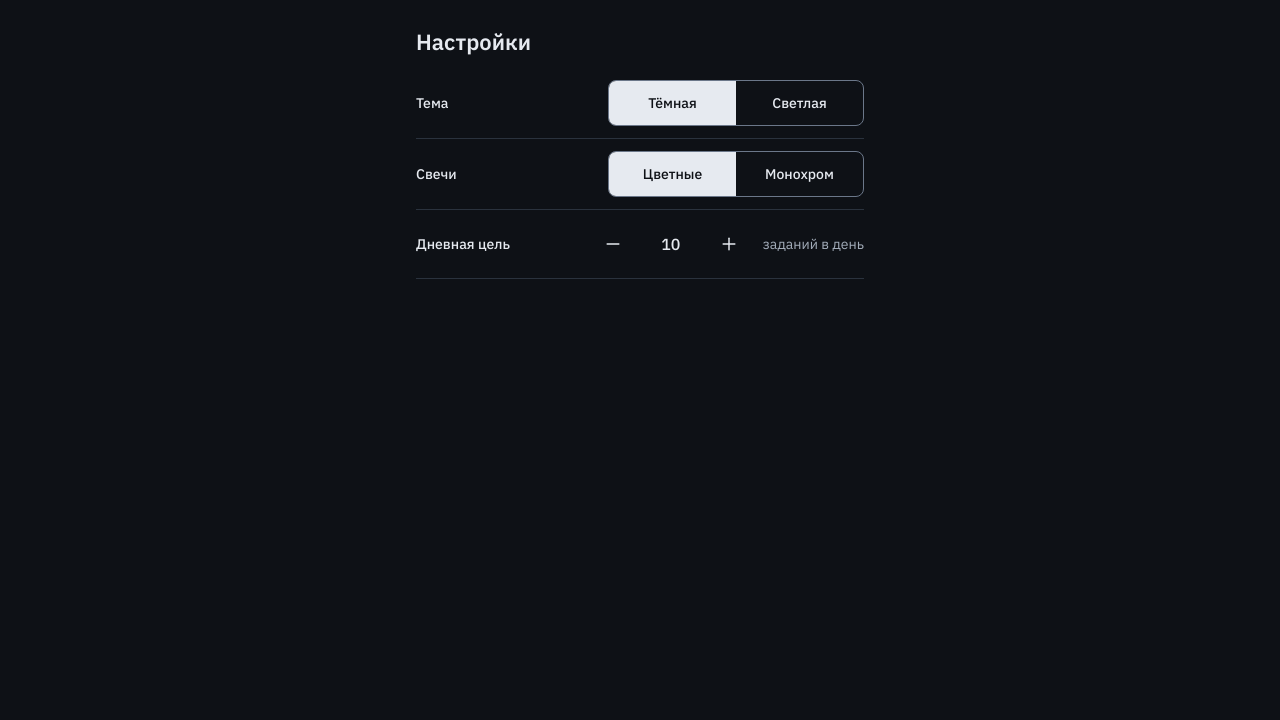
Scenario: Настройки › тема, свечи и цель сохраняются в репозитории
Click the radio button labelled "Светлая".
click(800, 103)  # box [736,81,863,125]
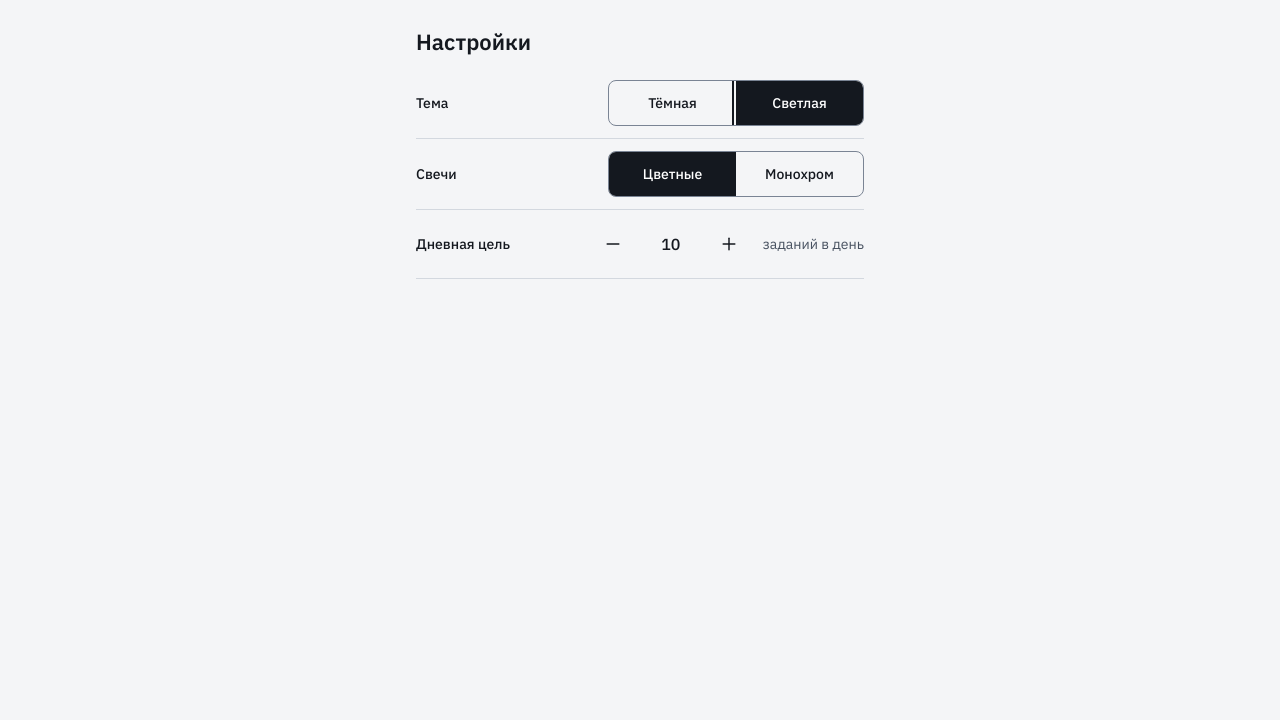
Click the radio button labelled "Монохром".
click(800, 174)  # box [736,152,863,196]
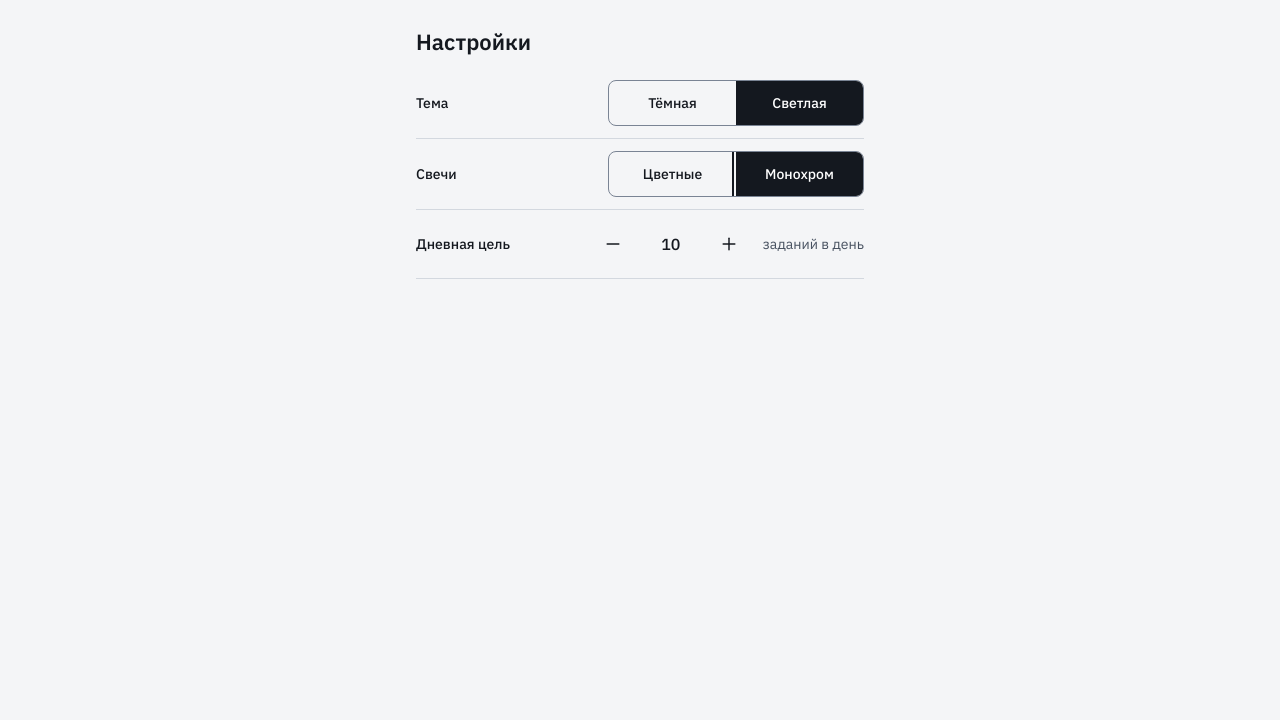
Click the button named "Увеличить".
click(729, 244)  # box [707,222,751,266]
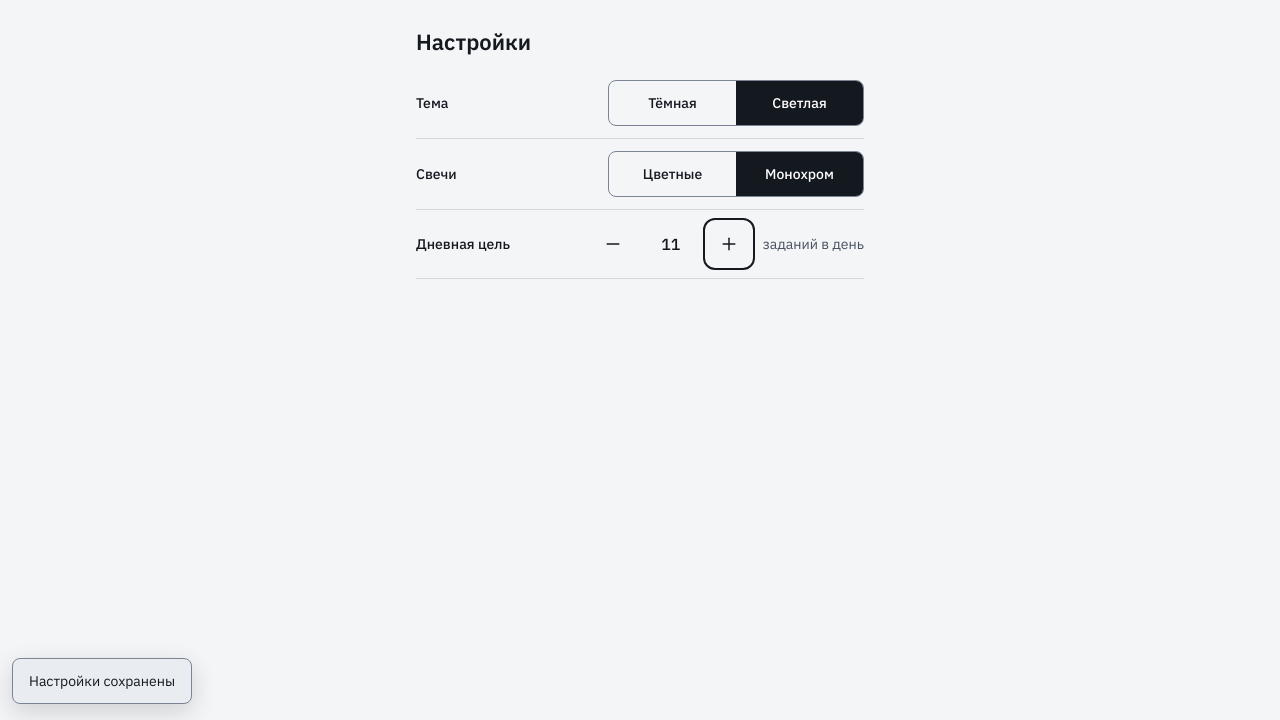
Now the text "Настройки сохранены" is shown, box [29,671,175,691]
